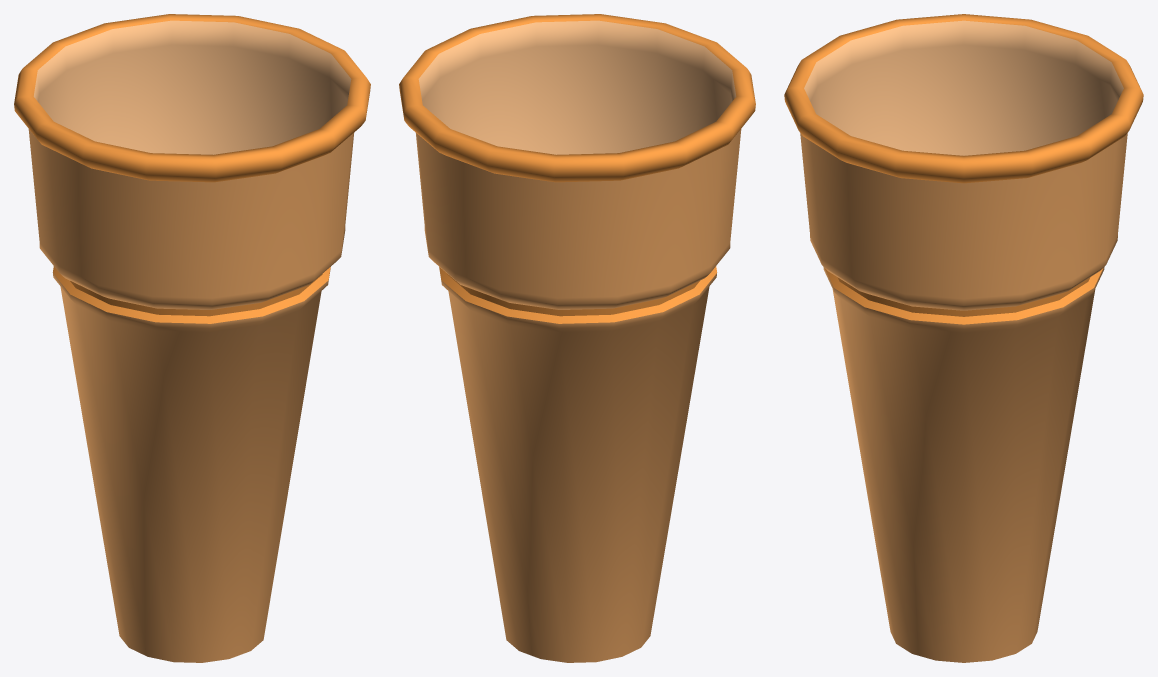
Rendered from Cone B Beige.fbx.
3 views of the same model, side by side, from view 1: azimuth 30°, elevation 25°; view 2: azimuth 150°, elevation 25°; view 3: azimuth 270°, elevation 25° (orthographic).
Visible parts, largest first — view 1: Cone B Beige; view 2: Cone B Beige; view 3: Cone B Beige.
Boxes of the visible parts, x1,y1,x2,y2 form: Cone B Beige: (14,14,370,662); Cone B Beige: (399,14,755,662); Cone B Beige: (784,14,1143,662).
Bounding box in the file's own units: 0.4323 × 0.722 × 0.4323.
